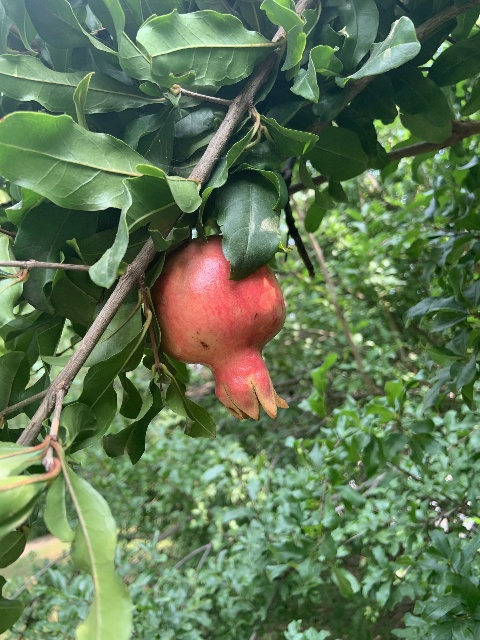ripe: (152, 236, 289, 421)
